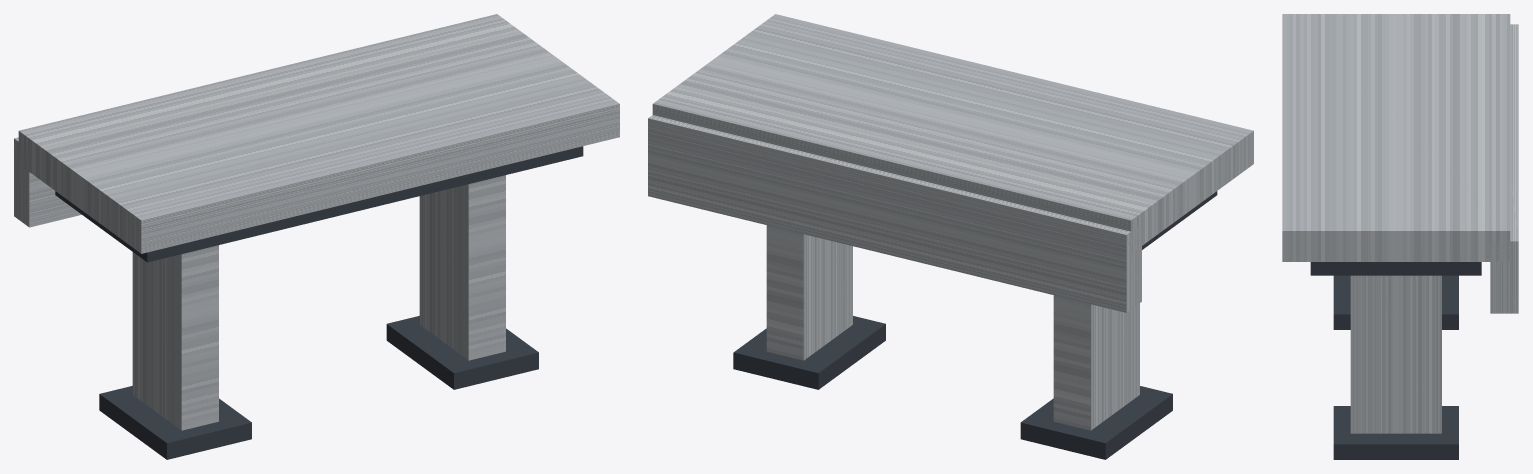
File: bench-steel-1.glb
The picture shows the model from 3 angles, left to right: view 1: azimuth 30°, elevation 25°; view 2: azimuth 150°, elevation 25°; view 3: azimuth 270°, elevation 25°; orthographic projection. The views are drawn at different scales.
Parts seen in each view (by area): view 1: BenchSteel1; view 2: BenchSteel1; view 3: BenchSteel1.
Boxes of the visible parts, x1,y1,x2,y2 form: BenchSteel1: (14, 14, 619, 459); BenchSteel1: (648, 14, 1253, 459); BenchSteel1: (1282, 14, 1518, 459).
Bounding box in the file's own units: 0.9 × 0.49 × 0.415.
Materials: 2 (1 with a texture image).
